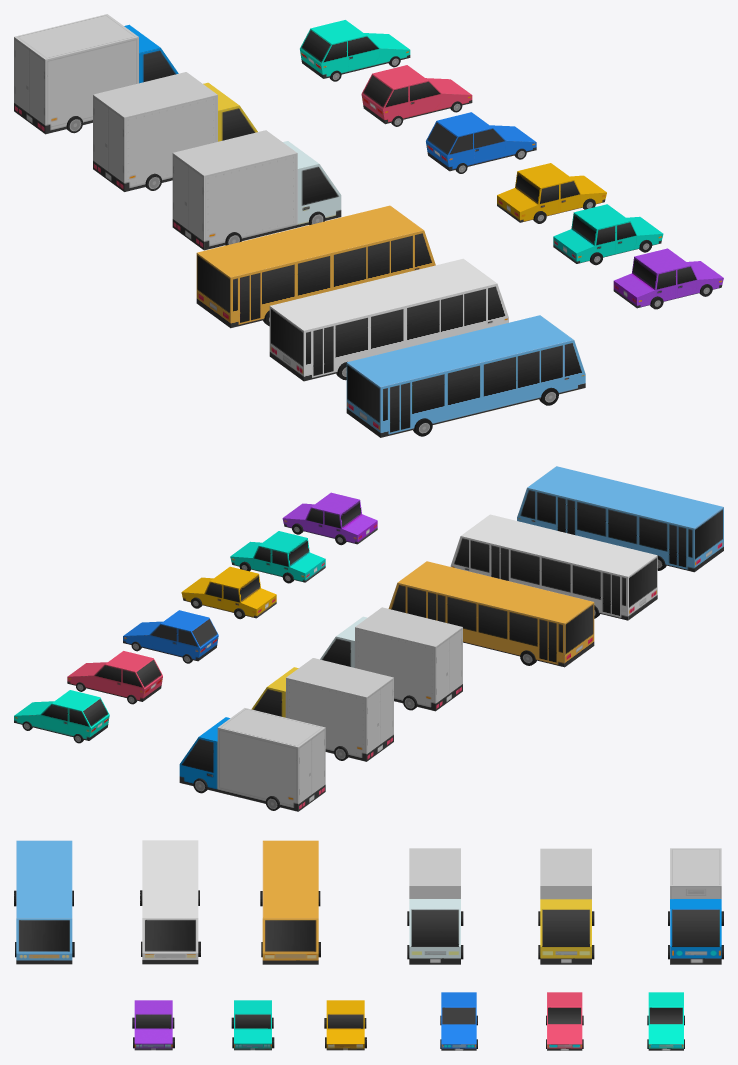
File: Low_Poly_City_Cars.fbx
The picture shows the model from 3 angles, top to bottom: view 1: azimuth 30°, elevation 25°; view 2: azimuth 150°, elevation 25°; view 3: azimuth 270°, elevation 25°; orthographic projection. The views are drawn at different scales.
Visible parts, largest first — view 1: Car_12, Car_10, Car_11, Car_09, Car_08, Car_07, CAR_02, CAR_03, CAR_01, Car_06, Car_05, Car_04; view 2: Car_11, Car_12, Car_10, Car_07, Car_09, Car_08, CAR_03, CAR_02, CAR_01, Car_06, Car_04, Car_05; view 3: Car_11, Car_12, Car_10, Car_09, Car_08, Car_07, CAR_03, CAR_02, CAR_01, Car_06, Car_04, Car_05.
Part boxes in pixels (bbox=[...]): Car_12: bbox=[346, 315, 585, 437]; Car_10: bbox=[269, 258, 508, 381]; Car_11: bbox=[196, 205, 435, 328]; Car_09: bbox=[172, 130, 341, 250]; Car_08: bbox=[93, 72, 257, 191]; Car_07: bbox=[14, 14, 178, 134]; CAR_02: bbox=[361, 65, 472, 126]; CAR_03: bbox=[426, 112, 536, 173]; CAR_01: bbox=[300, 20, 410, 81]; Car_06: bbox=[613, 248, 723, 309]; Car_05: bbox=[553, 204, 663, 265]; Car_04: bbox=[497, 163, 606, 223]; Car_11: bbox=[388, 561, 594, 667]; Car_12: bbox=[517, 466, 723, 572]; Car_10: bbox=[450, 514, 657, 620]; Car_07: bbox=[179, 708, 325, 811]; Car_09: bbox=[320, 607, 462, 711]; Car_08: bbox=[251, 658, 393, 761]; CAR_03: bbox=[123, 610, 218, 663]; CAR_02: bbox=[67, 651, 162, 704]; CAR_01: bbox=[14, 690, 109, 743]; Car_06: bbox=[282, 492, 377, 545]; Car_04: bbox=[181, 566, 276, 619]; Car_05: bbox=[230, 531, 325, 583]; Car_11: bbox=[260, 840, 320, 964]; Car_12: bbox=[14, 840, 74, 964]; Car_10: bbox=[140, 840, 200, 964]; Car_09: bbox=[407, 848, 463, 964]; Car_08: bbox=[538, 848, 594, 964]; Car_07: bbox=[668, 848, 723, 964]; CAR_03: bbox=[440, 992, 477, 1050]; CAR_02: bbox=[546, 992, 583, 1050]; CAR_01: bbox=[647, 992, 684, 1050]; Car_06: bbox=[132, 1000, 174, 1050]; Car_04: bbox=[324, 1000, 366, 1050]; Car_05: bbox=[231, 1000, 274, 1050].
Size of what is drawn, in the model's own units: 365 by 67.11 by 658.
Materials: 12 (12 with a texture image).
